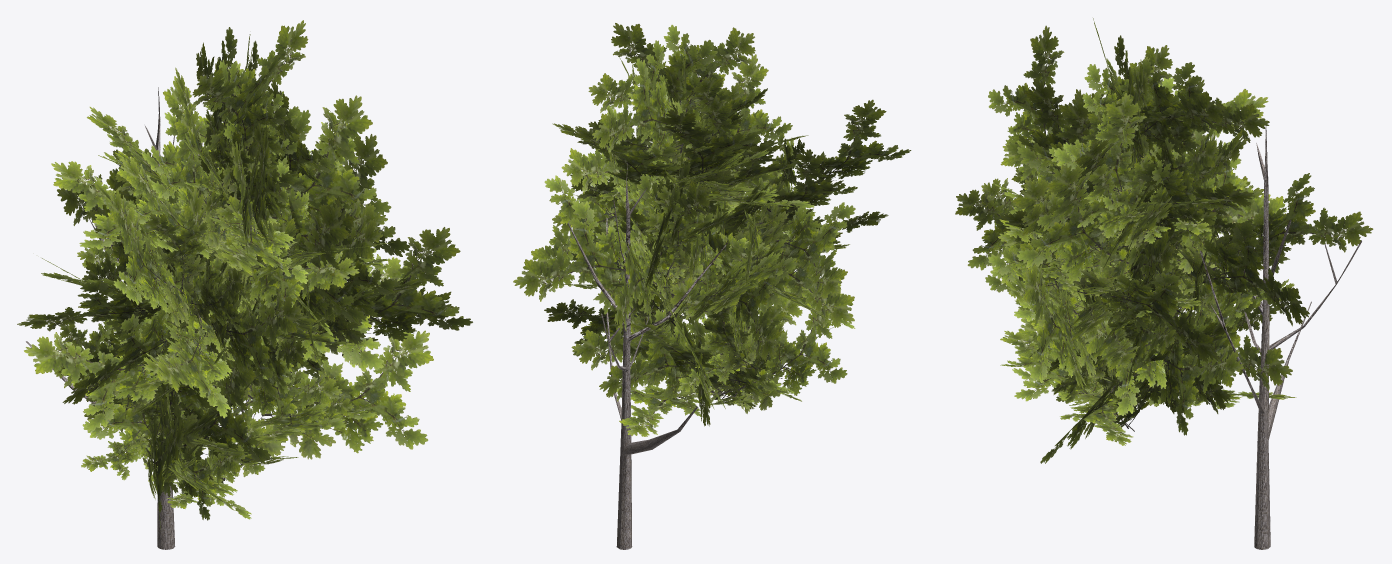
The model's file is trees2.gltf.
3 renders of one model, left to right at view 1: azimuth 30°, elevation 25°; view 2: azimuth 150°, elevation 25°; view 3: azimuth 270°, elevation 25°, orthographic. The views are drawn at different scales.
Visible parts, largest first — view 1: 2_pngaaacom-3905963001_0, 2_bark-1001_0; view 2: 2_pngaaacom-3905963001_0, 2_bark-1001_0; view 3: 2_pngaaacom-3905963001_0, 2_bark-1001_0.
Part boxes in pixels (bbox=[...]): 2_pngaaacom-3905963001_0: bbox=[17, 20, 472, 529]; 2_bark-1001_0: bbox=[26, 87, 202, 549]; 2_pngaaacom-3905963001_0: bbox=[513, 23, 911, 436]; 2_bark-1001_0: bbox=[568, 163, 727, 549]; 2_pngaaacom-3905963001_0: bbox=[955, 18, 1373, 463]; 2_bark-1001_0: bbox=[1199, 126, 1361, 549].
Bounding box in the file's own units: 7.52 × 10.26 × 7.73.
Materials: 2 (2 with a texture image).
